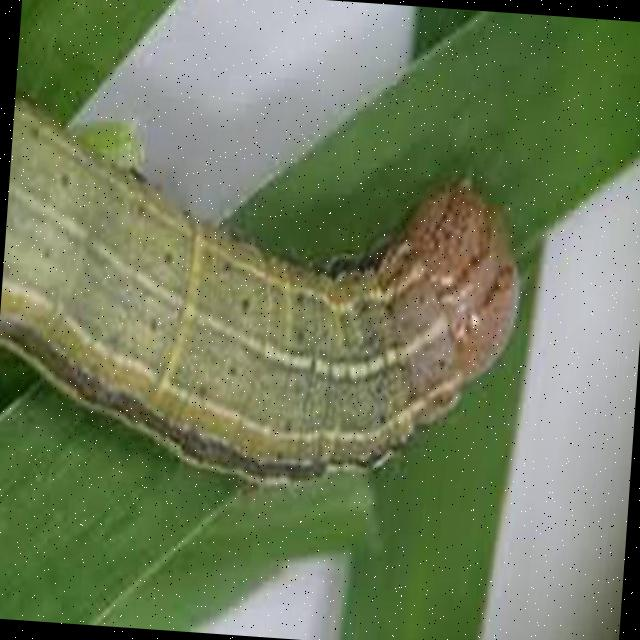worm: (1, 94, 535, 509)
